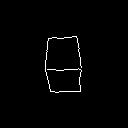cube: (39, 28, 88, 103)
